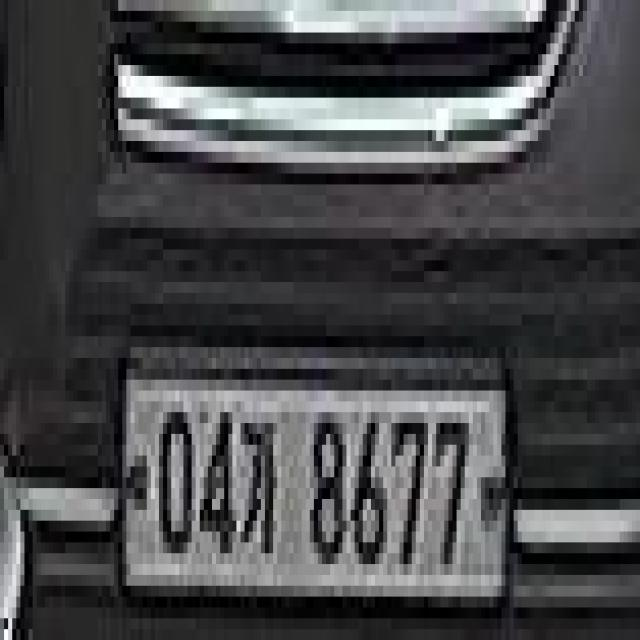illegal_plate: (120, 350, 516, 630)
